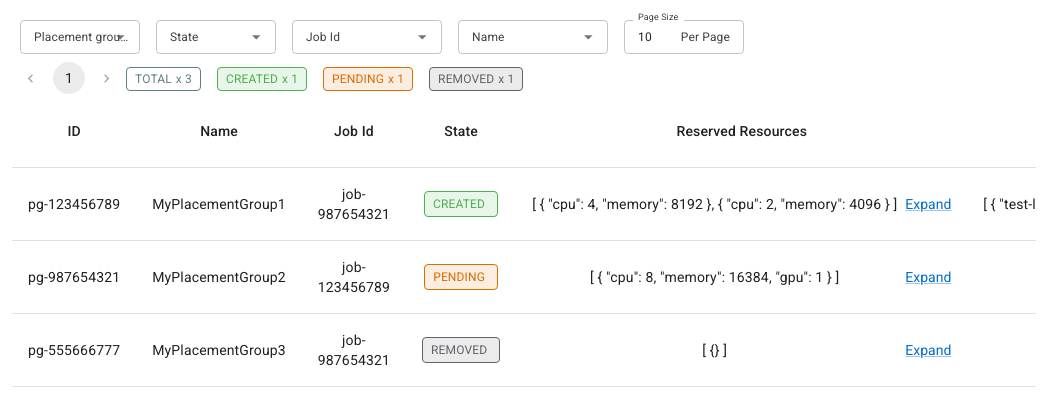
Scenario: PlacementGroupTable › renders placement groups filtered by job ID
The width and height of the screenshot is (1048, 404).
// Filter by job ID
In the dropdown labelled "Job Id": (350, 37) [298,26,403,48], type "job-987654321"
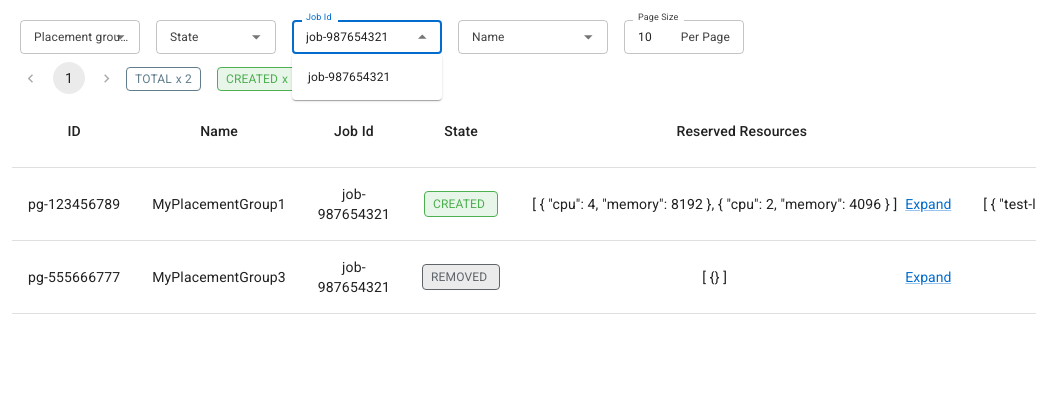
Expected: the text "pg-123456789" is shown, [28,194,120,214]
Expected: the text "pg-987654321" is gone
